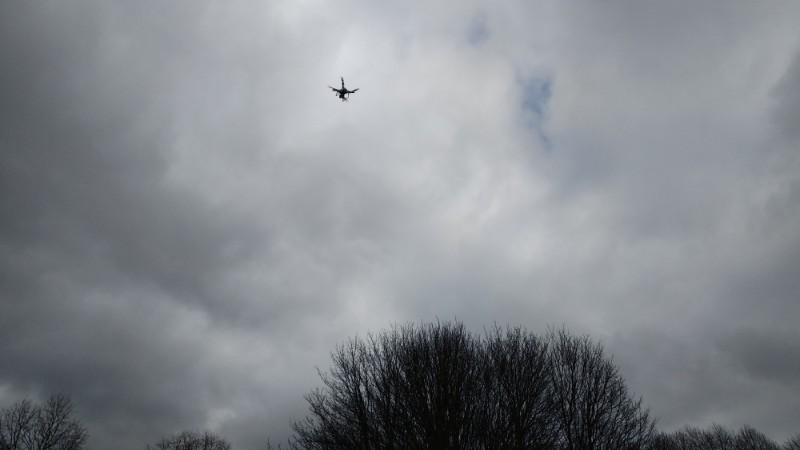drone: (327, 76, 360, 101)
